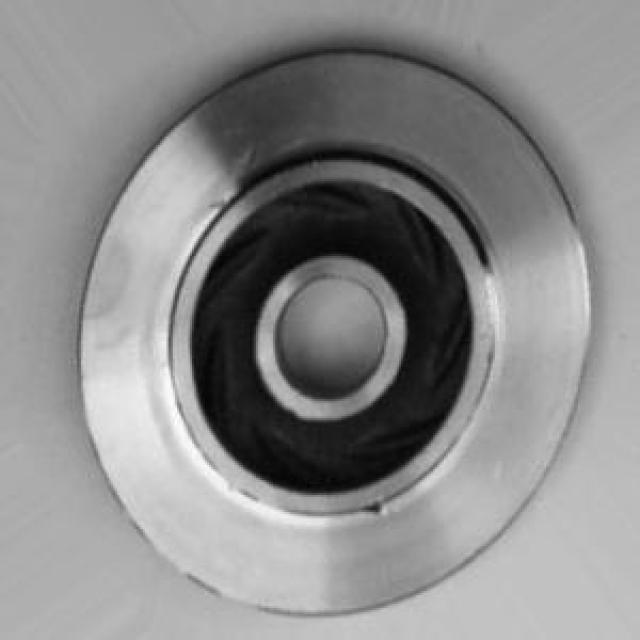Defect: (352, 486, 389, 525)
